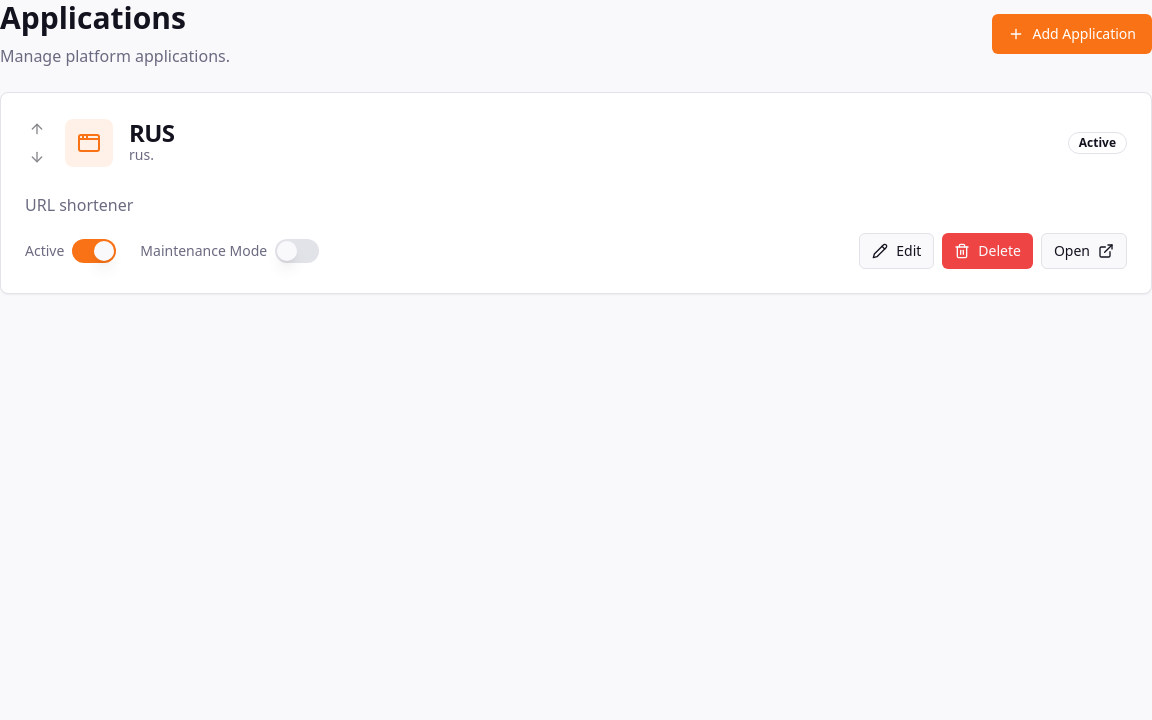
it: AdminApplicationsPage › validates oci fields are all-or-nothing
Step 1. Click the button "Edit" → click(897, 251), box [859, 233, 934, 269]
(page scrolled)
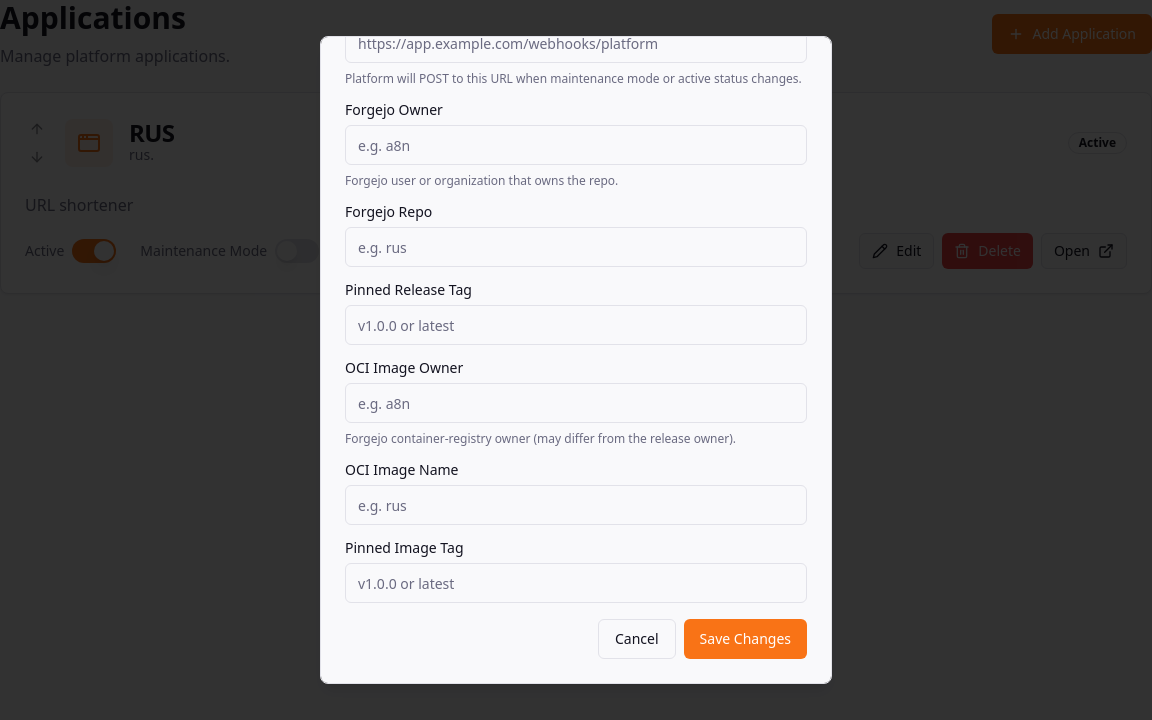
Step 2. Type "myorg" into the field labelled "OCI Image Owner" → (576, 403), box [345, 383, 807, 423]
(page scrolled)
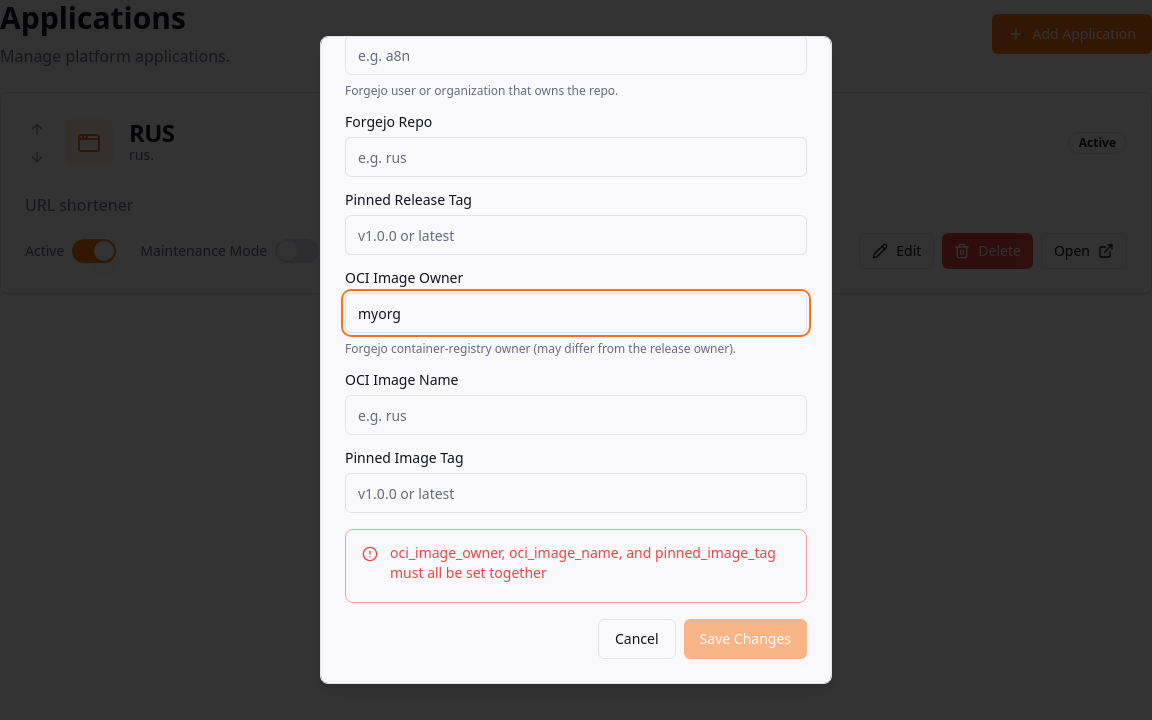
Expected: the text "oci_image_owner, oci_image_name, and pinned_image_tag must all be set together" is shown, [362, 543, 790, 583]
Expected: the button "Save Changes" is disabled, [684, 619, 807, 659]
